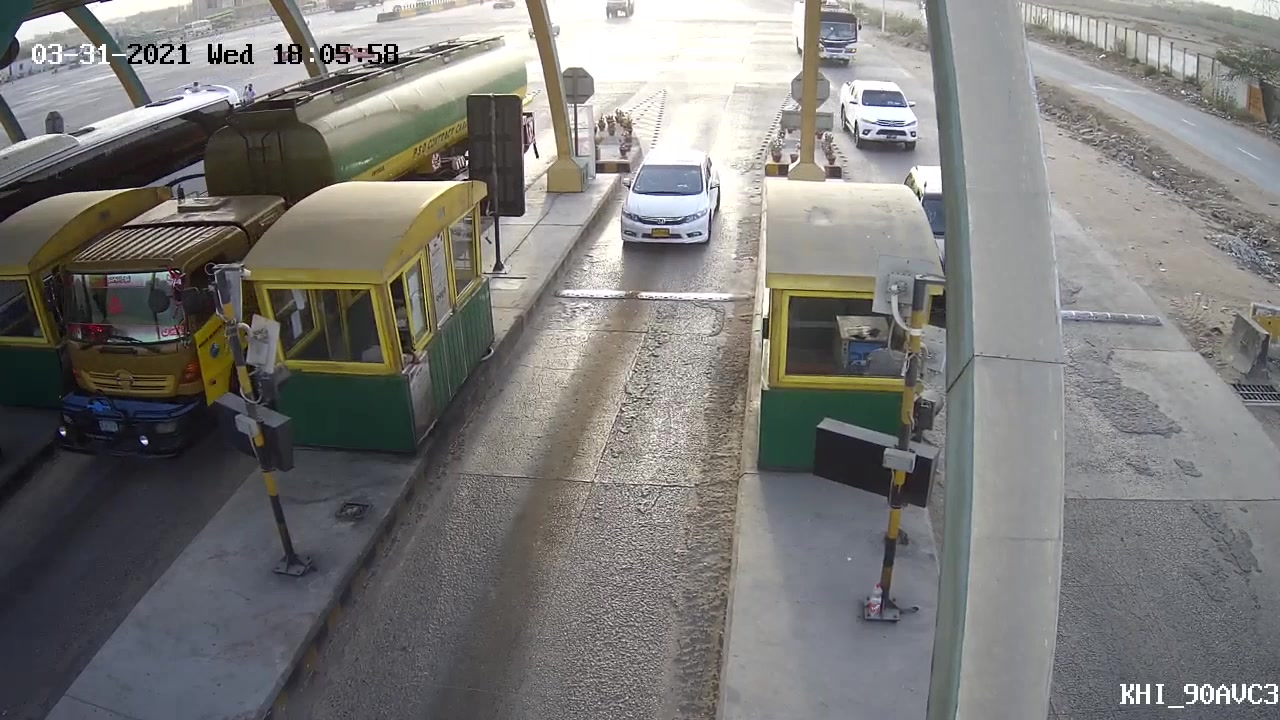F1: (611, 142, 728, 255)
